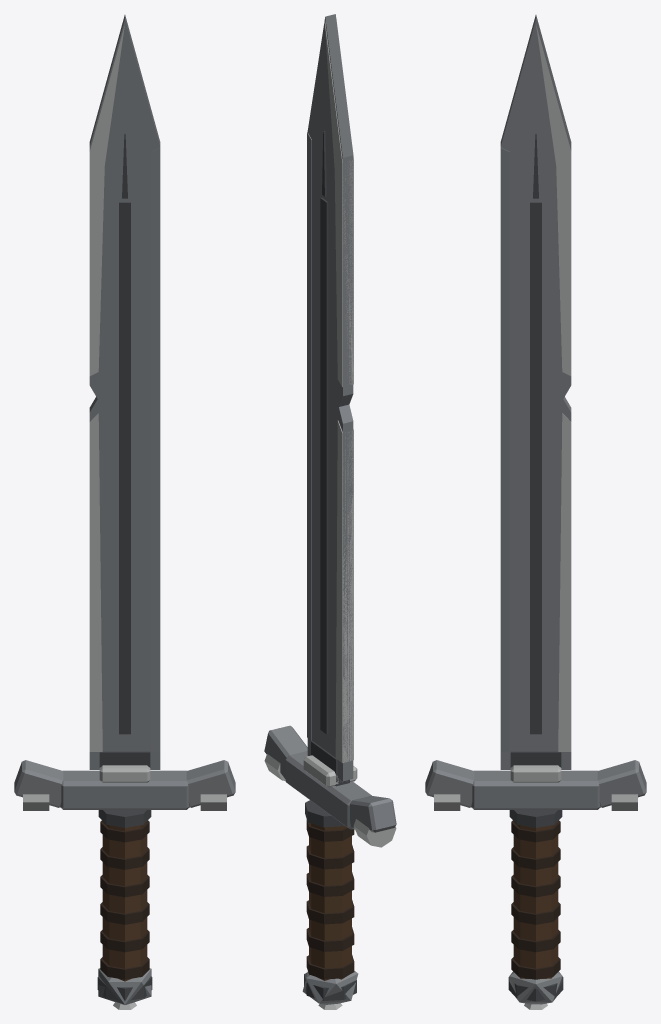
File: melee_steel_sword.fbx
The picture shows the model from 3 angles, left to right: view 1: azimuth 90°, elevation 25°; view 2: azimuth 210°, elevation 25°; view 3: azimuth 270°, elevation 25°; orthographic projection.
Parts seen in each view (by area): view 1: melee_steel_sword; view 2: melee_steel_sword; view 3: melee_steel_sword.
Boxes of the visible parts, bbox=[...] form: melee_steel_sword: bbox=[14, 15, 235, 1009]; melee_steel_sword: bbox=[264, 14, 396, 1009]; melee_steel_sword: bbox=[425, 15, 646, 1009].
Size of the model in its own units: 0.0555 by 1.08 by 0.219.
